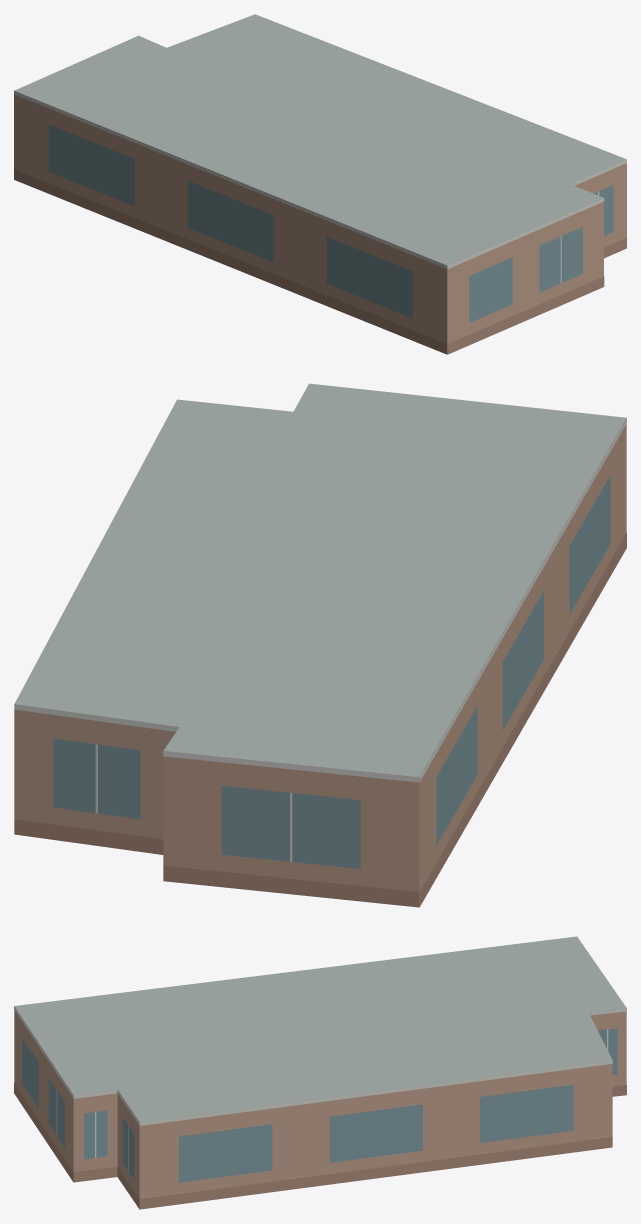
File: survey-upis-32616509.glb
3 renders of one model, top to bottom at view 1: azimuth 30°, elevation 25°; view 2: azimuth 150°, elevation 25°; view 3: azimuth 270°, elevation 25°, orthographic. The views are drawn at different scales.
Visible parts, largest first — view 1: survey-upis-32616509.tmp; view 2: survey-upis-32616509.tmp; view 3: survey-upis-32616509.tmp.
Part boxes in pixels (box(x1,y1,x2,y2)): survey-upis-32616509.tmp: box(14, 14, 626, 354); survey-upis-32616509.tmp: box(14, 383, 626, 907); survey-upis-32616509.tmp: box(14, 936, 626, 1209).
Bounding box in the file's own units: 13.96 × 3.05 × 19.44.
